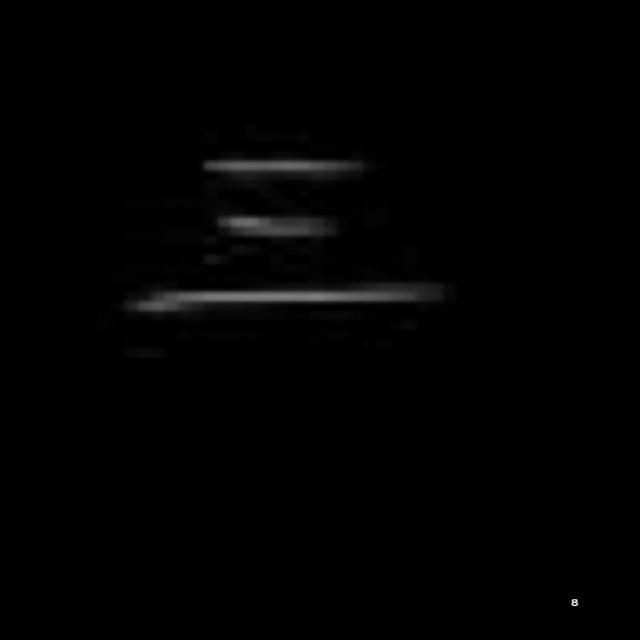3 -three-: (108, 135, 447, 329)
